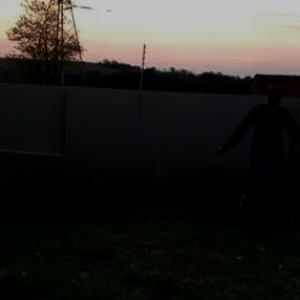land: (214, 94, 299, 228)
